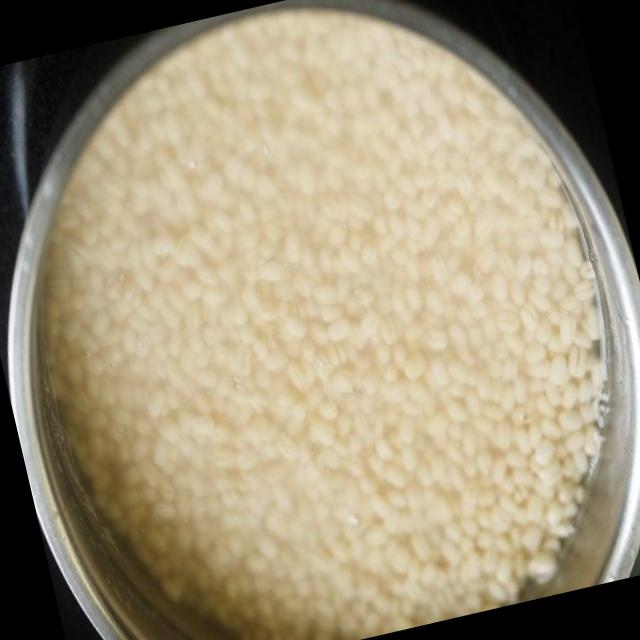rice: (85, 77, 564, 610)
